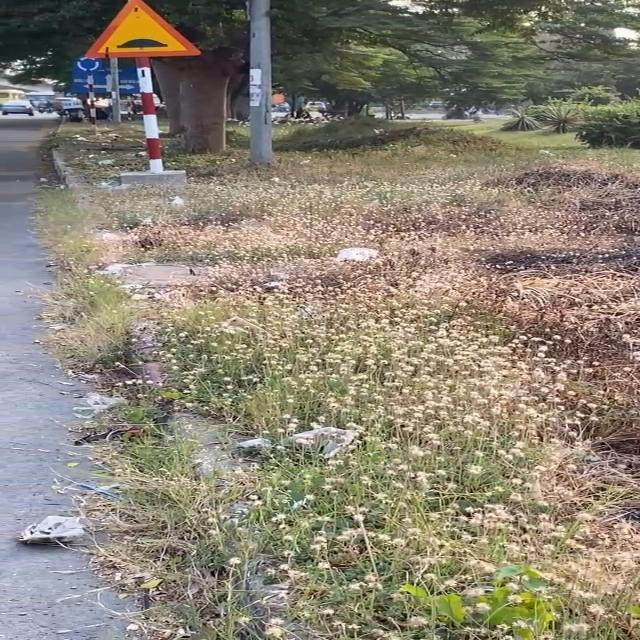221-duong-go-ghe: (82, 0, 203, 59)
303-noi-giao-nhau-chay-theo-vong-xuyen: (75, 54, 103, 72)
